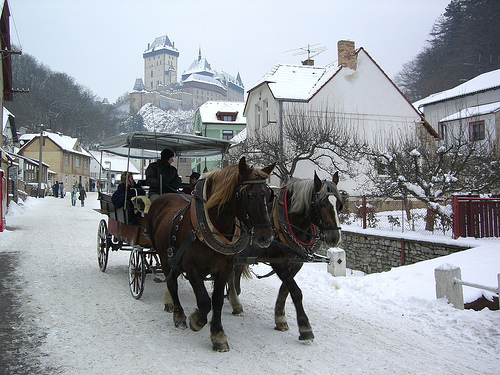horse: (147, 158, 276, 352), (213, 167, 345, 346)
